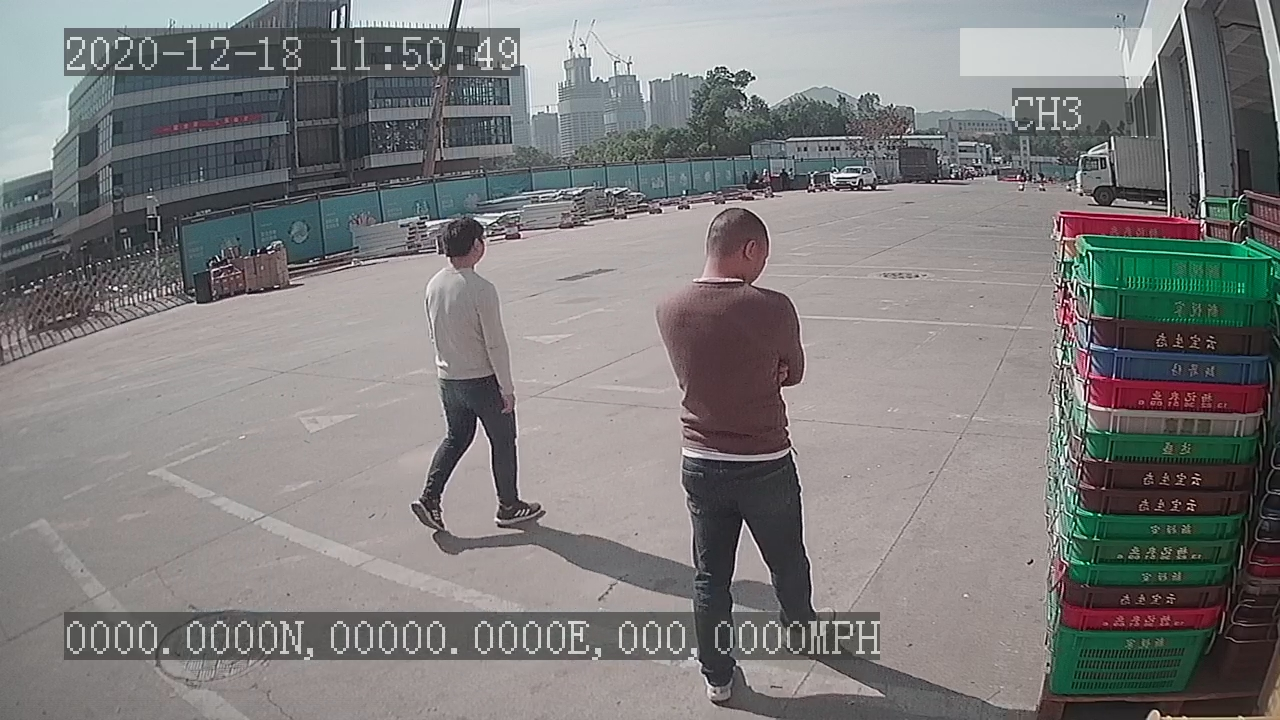person: (402, 211, 552, 536)
